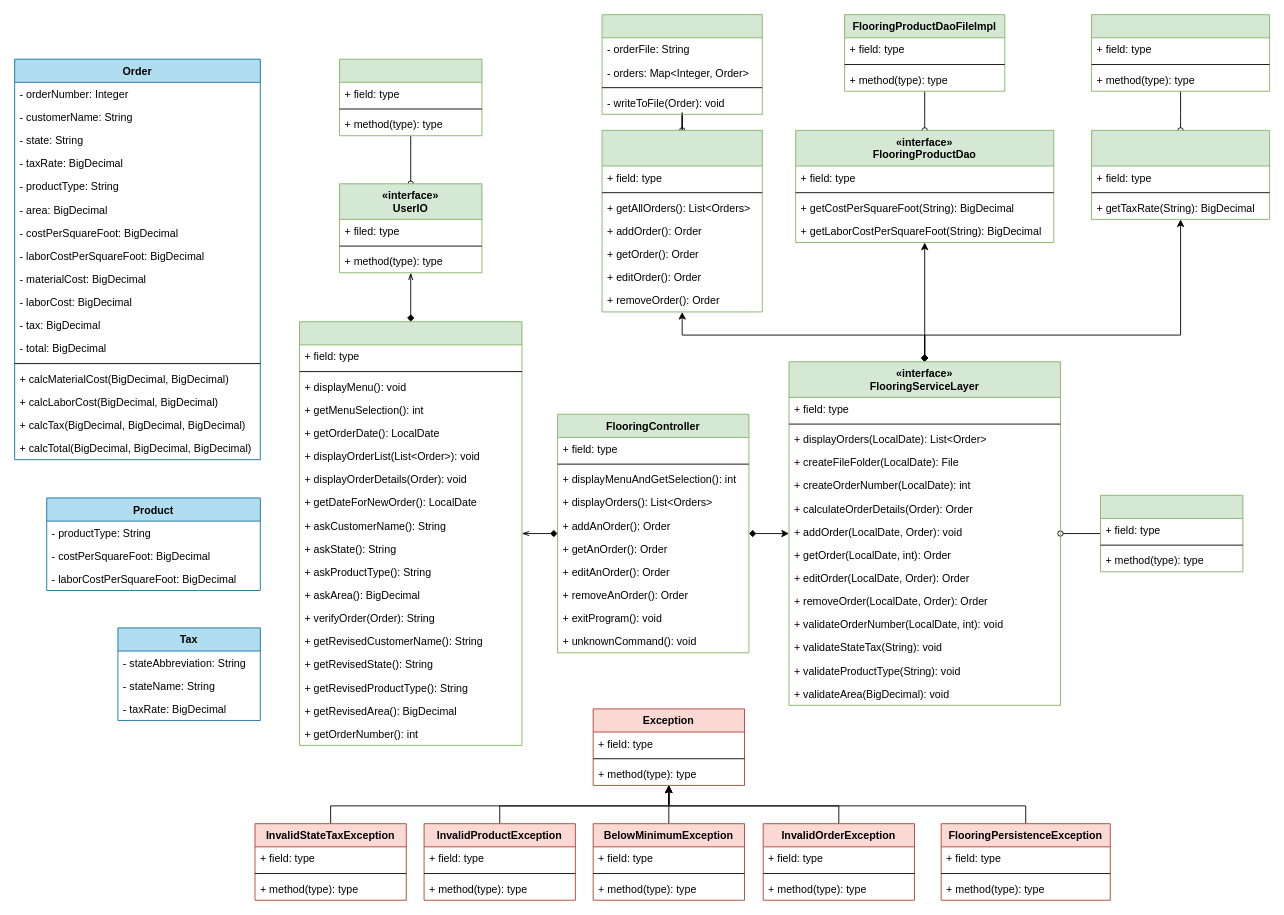
Image size: 1284x915. Some labels were removed from this diagram. The shapes that lost their labels are listed below. From the top down, each one's box as (x1, y1, x2, y2) in pixels, then its label:
(601, 14, 762, 114): FlooringOrderDaoFileImpl
(1091, 14, 1270, 91): FlooringTaxDaoFileImpl
(339, 58, 482, 136): UserIOConsoleImpl
(1091, 129, 1270, 219): «interface» FlooringTaxDao
(601, 129, 762, 312): «interface» FlooringOrderDao
(299, 321, 522, 745): FlooringView
(1100, 494, 1243, 572): FlooringServiceLayerImpl
